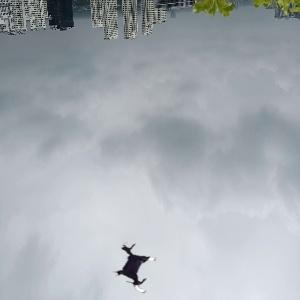drone: (109, 239, 167, 297)
